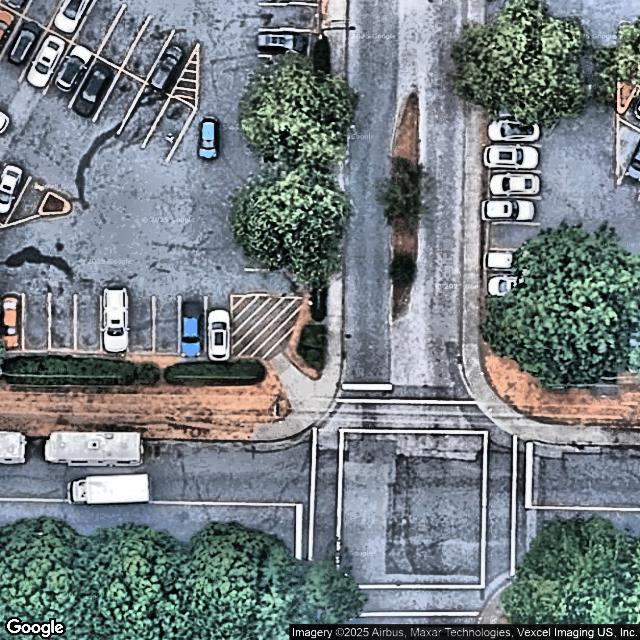car: (67, 60, 117, 122), (22, 31, 69, 91), (145, 39, 191, 95), (2, 14, 46, 70), (50, 42, 96, 95), (101, 287, 130, 356), (50, 0, 93, 37), (0, 161, 28, 217), (254, 28, 309, 56), (206, 309, 232, 362), (181, 297, 203, 359), (0, 292, 21, 352), (0, 6, 20, 54)
lot_boundary: (0, 0, 317, 362)
objects: (37, 193, 69, 214)
stall: (19, 30, 74, 97), (92, 70, 147, 137), (116, 83, 171, 150), (144, 30, 199, 97), (120, 17, 175, 83), (43, 43, 98, 109), (66, 56, 121, 122), (95, 5, 150, 71), (141, 96, 195, 162), (0, 16, 46, 84), (73, 0, 125, 56), (4, 178, 49, 227), (0, 163, 31, 229), (50, 0, 96, 39), (74, 295, 102, 351), (204, 299, 232, 355), (153, 298, 180, 355), (126, 297, 153, 354), (49, 294, 76, 351), (179, 299, 206, 356), (102, 295, 129, 351), (23, 294, 50, 350), (249, 130, 304, 157), (250, 75, 304, 102), (260, 4, 315, 30), (252, 30, 307, 56), (249, 158, 304, 184), (247, 214, 302, 240), (249, 186, 303, 212), (247, 243, 301, 269), (249, 269, 303, 295), (250, 102, 304, 128), (0, 4, 23, 57), (1, 294, 22, 351), (251, 54, 306, 75), (24, 0, 62, 28)
